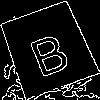B: (23, 24, 73, 78)
